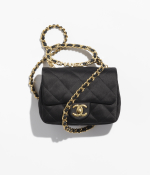channel: (35, 57, 126, 130), (74, 75, 106, 98), (67, 99, 91, 118)
